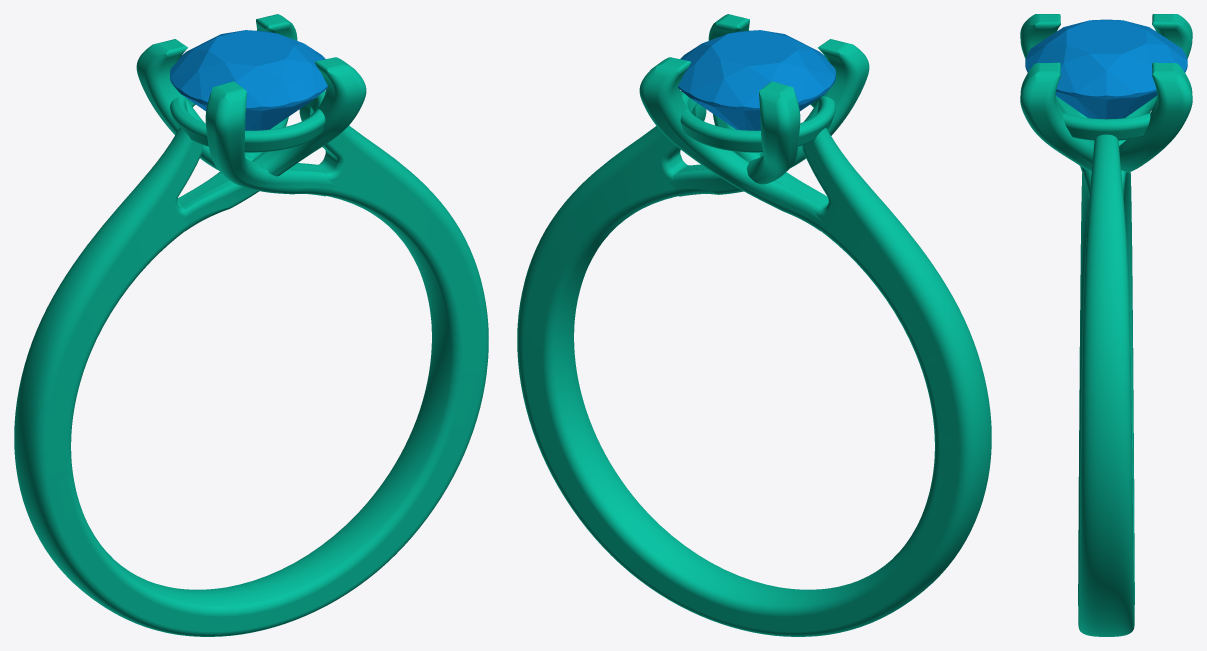
The picture shows the model from 3 angles, left to right: view 1: azimuth 30°, elevation 25°; view 2: azimuth 150°, elevation 25°; view 3: azimuth 270°, elevation 25°; orthographic projection.
Visible parts, largest first — view 1: VSR-1008(front).3dm, Diamond_Round; view 2: VSR-1008(front).3dm, Diamond_Round; view 3: VSR-1008(front).3dm, Diamond_Round.
Part boxes in pixels (x1,y1,x2,y2): VSR-1008(front).3dm: (14, 14, 488, 636); Diamond_Round: (170, 30, 327, 130); VSR-1008(front).3dm: (517, 14, 991, 636); Diamond_Round: (678, 30, 835, 130); VSR-1008(front).3dm: (1020, 14, 1192, 636); Diamond_Round: (1025, 19, 1187, 119).
Size of the model in its own units: 2.52 by 3 by 0.8169.
